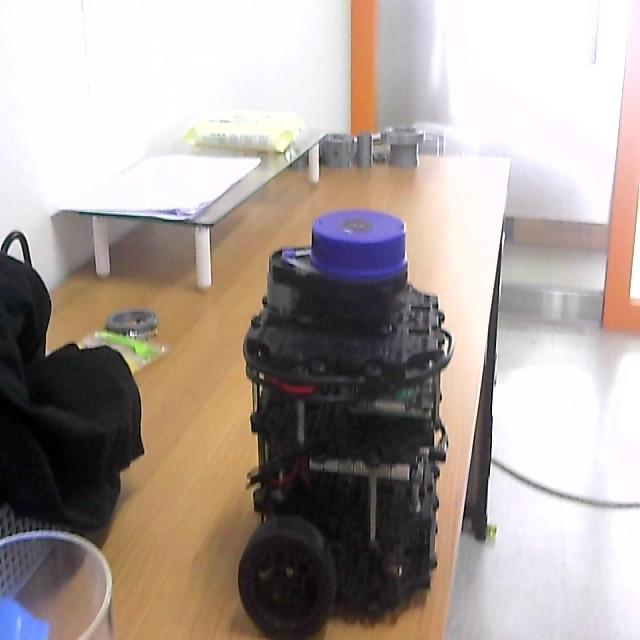turtle: (237, 206, 454, 640)
